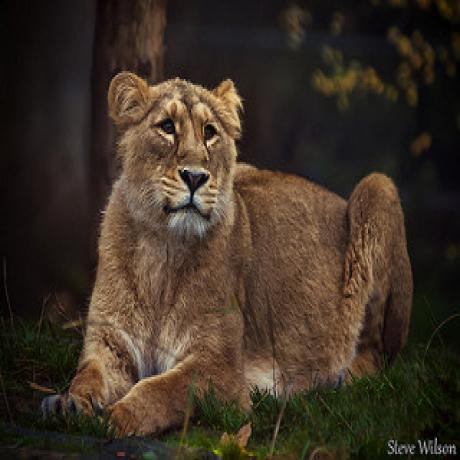Lion: (38, 65, 413, 434)
